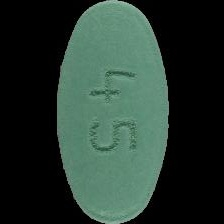69189-0201: (0, 0, 224, 224)
